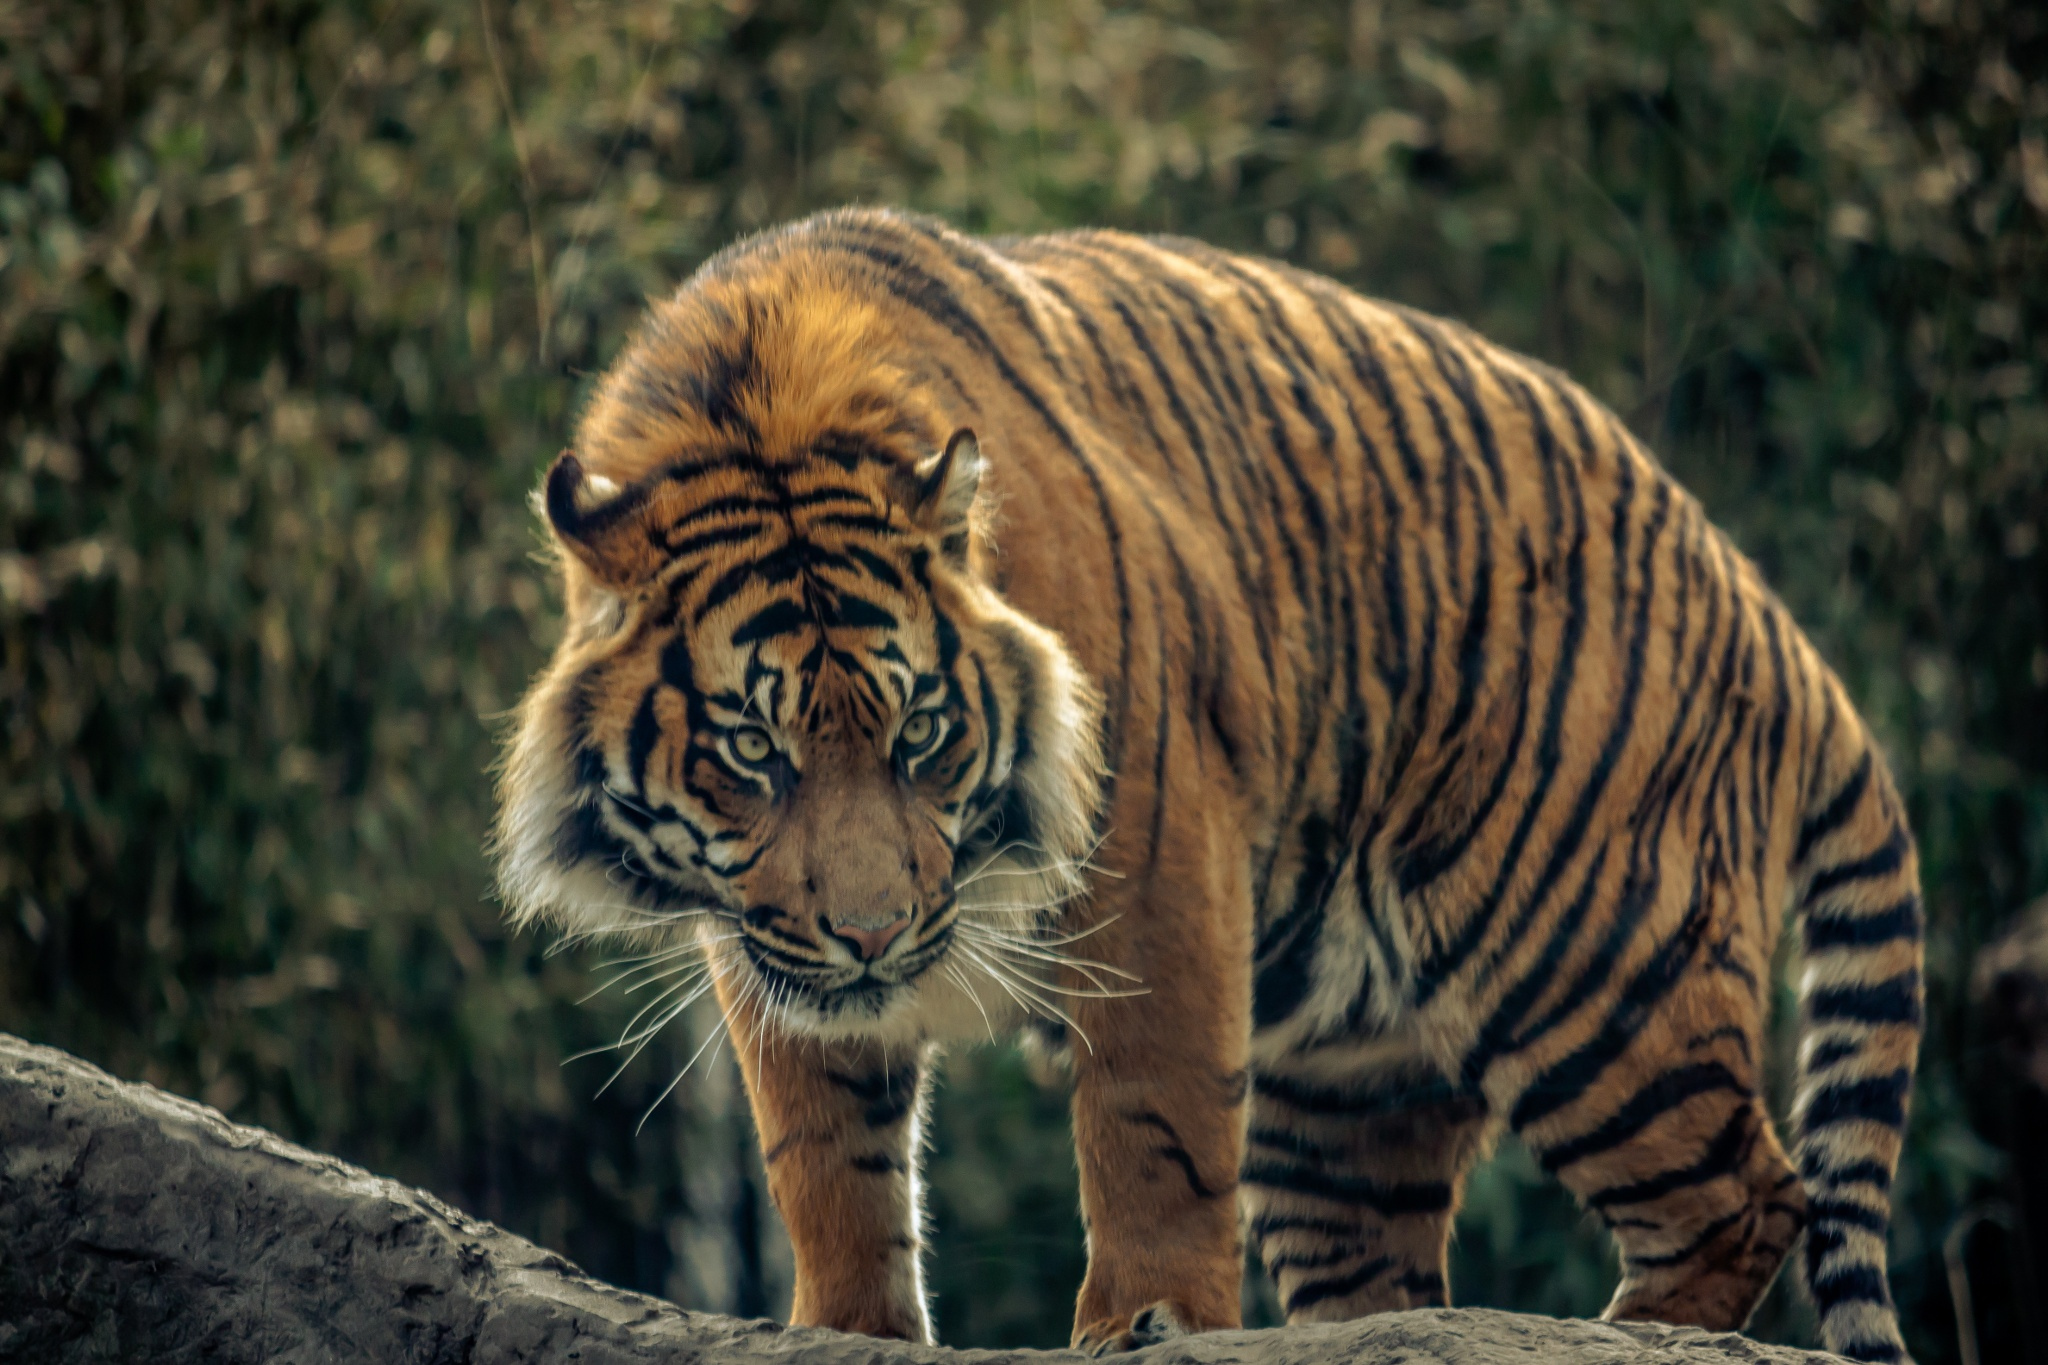tiger: (507, 187, 1941, 1316)
